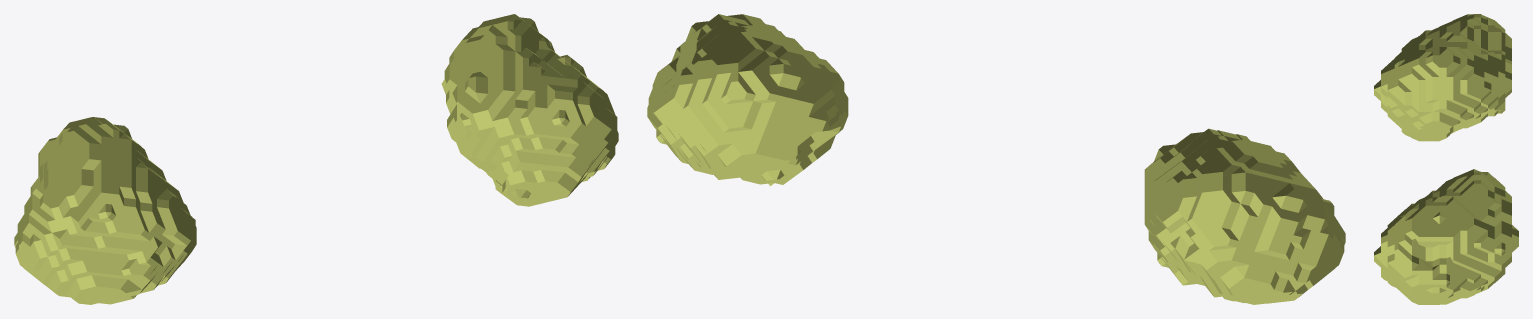
Rendered from region_0162_VAO__ventral_accessory_optic_nucleus_.glb.
The picture shows the model from 3 angles, left to right: view 1: azimuth 30°, elevation 25°; view 2: azimuth 150°, elevation 25°; view 3: azimuth 270°, elevation 25°; orthographic projection. The views are drawn at different scales.
Visible parts, largest first — view 1: world; view 2: world; view 3: world.
Boxes of the visible parts, left/top/right/bottom form: world: left=14, top=14, right=618, bottom=304; world: left=647, top=14, right=1345, bottom=304; world: left=1374, top=14, right=1518, bottom=304.
Bounding box in the file's own units: 0.608 × 0.16 × 0.168.
